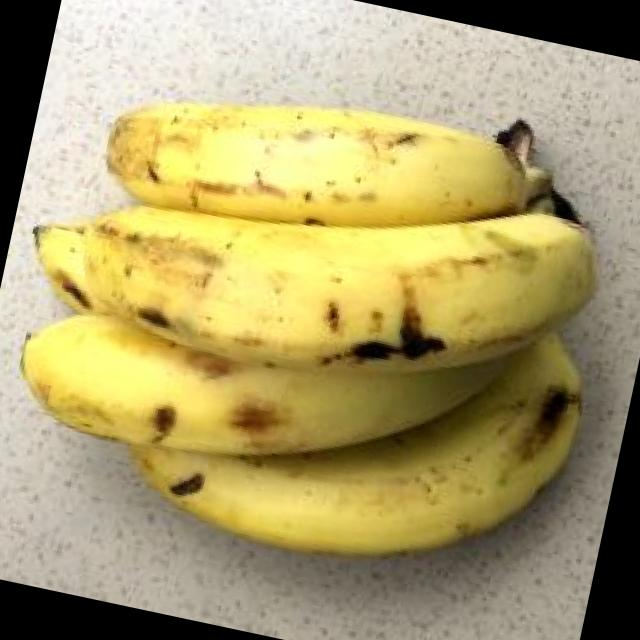banana: (131, 119, 595, 638)
